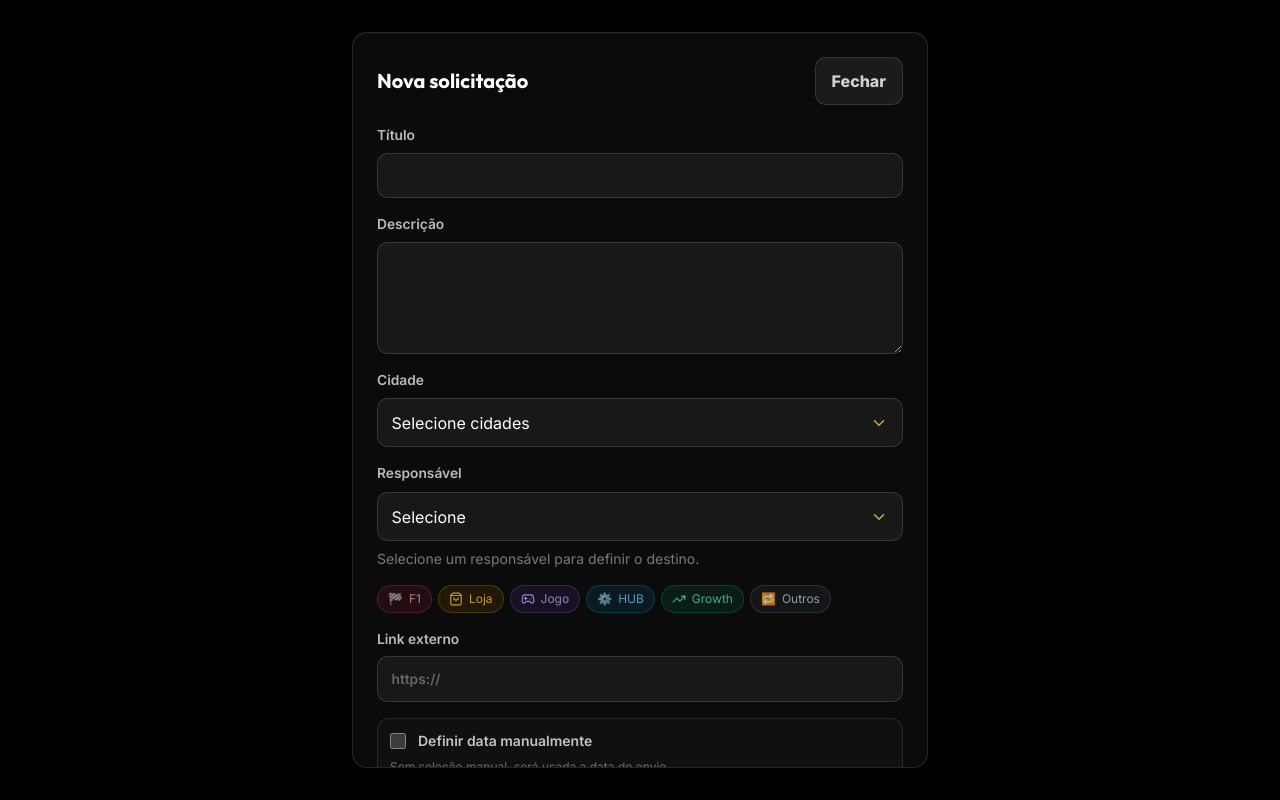
Scenario: RequestDialog destination › usa um menu customizado de escolha única com somente responsáveis aprovados
Click the button with aria-label "Selecionar responsável". click: click(429, 517)
box: [377,492,903,541]
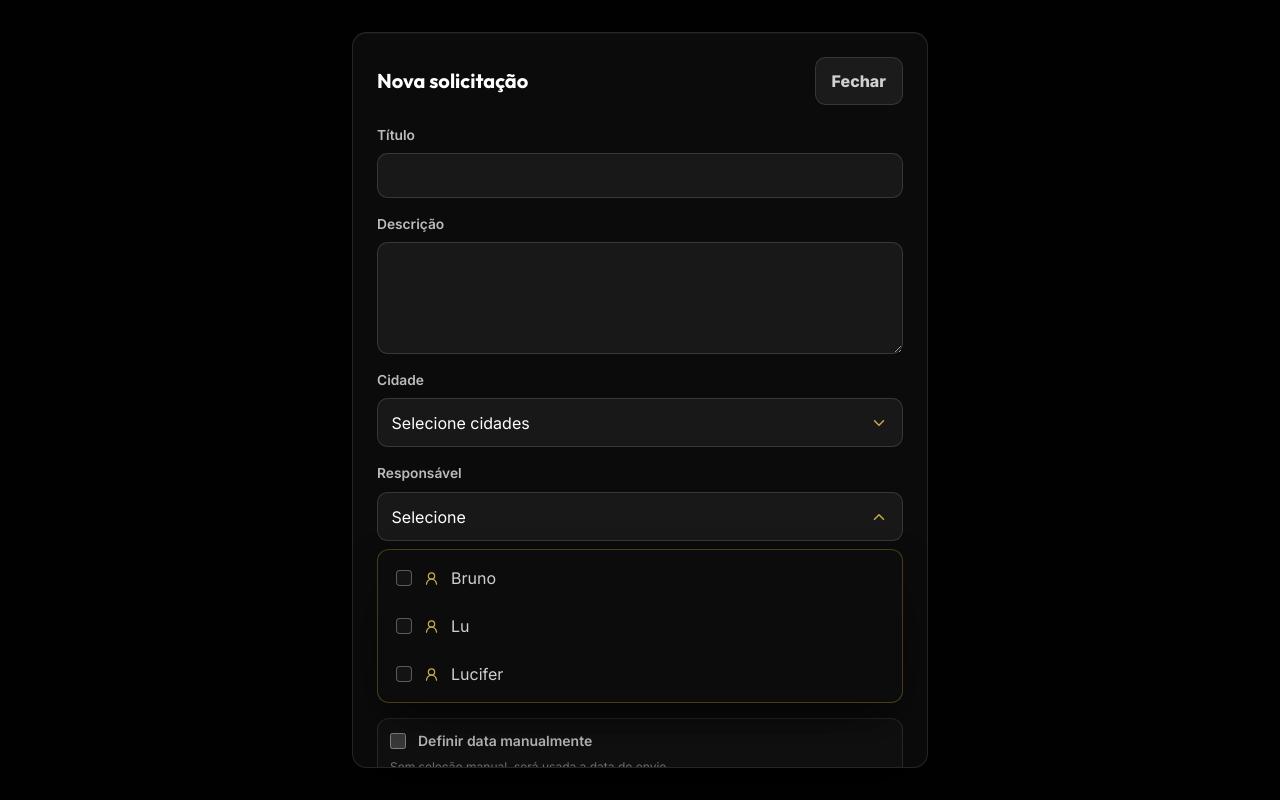
expect the option "Lucifer" is shown: met, box [384,652,896,696]
expect the option "Bruno" is shown: met
Click the option "Bruno". click: click(474, 578)
box: [384,556,896,600]
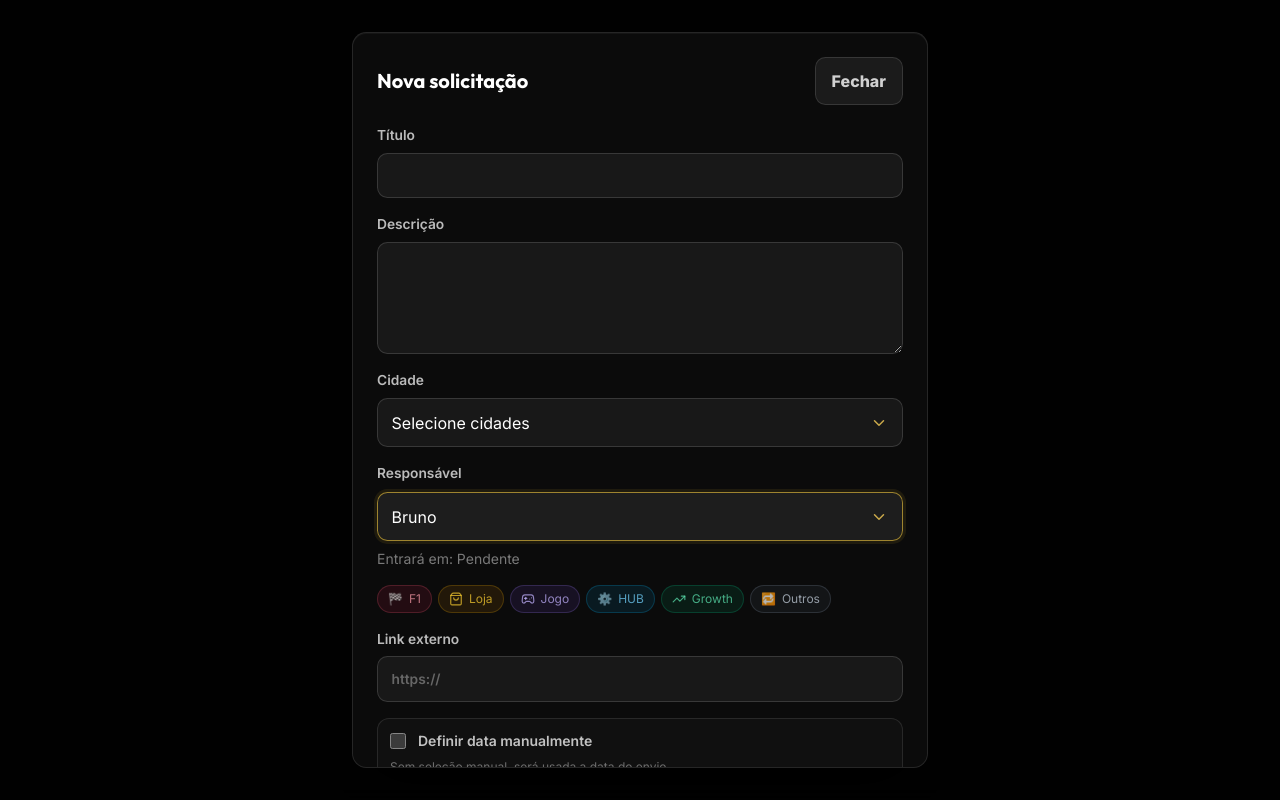
expect the button with aria-label "Selecionar responsável" reads "Bruno": met, box [377,492,903,541]
